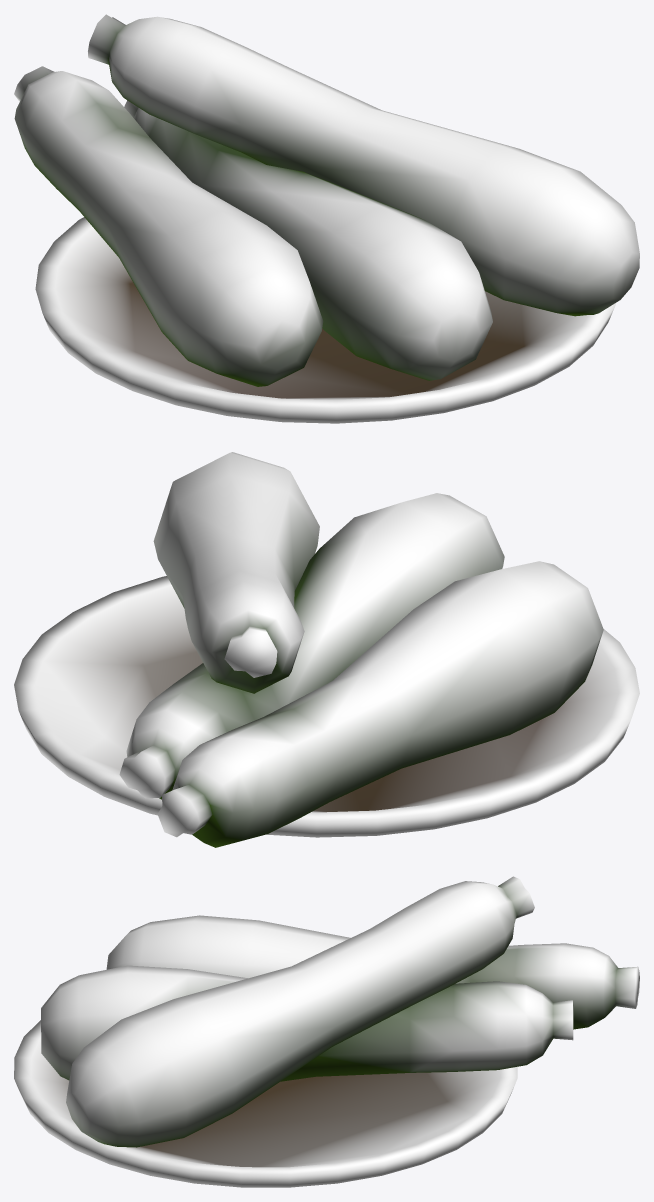
Rendered from sb_obj_indoor015_Vegetables04b.fbx.
The picture shows the model from 3 angles, top to bottom: view 1: azimuth 30°, elevation 25°; view 2: azimuth 150°, elevation 25°; view 3: azimuth 270°, elevation 25°; orthographic projection. The views are drawn at different scales.
Parts seen in each view (by area): view 1: sb_obj_indoor015_Vegetables04b; view 2: sb_obj_indoor015_Vegetables04b; view 3: sb_obj_indoor015_Vegetables04b.
Part boxes in pixels (x1,y1,x2,y2): sb_obj_indoor015_Vegetables04b: (14,14,639,423); sb_obj_indoor015_Vegetables04b: (14,452,639,847); sb_obj_indoor015_Vegetables04b: (14,876,639,1187).
Size of the model in its own units: 0.3775 by 0.1663 by 0.4689.
